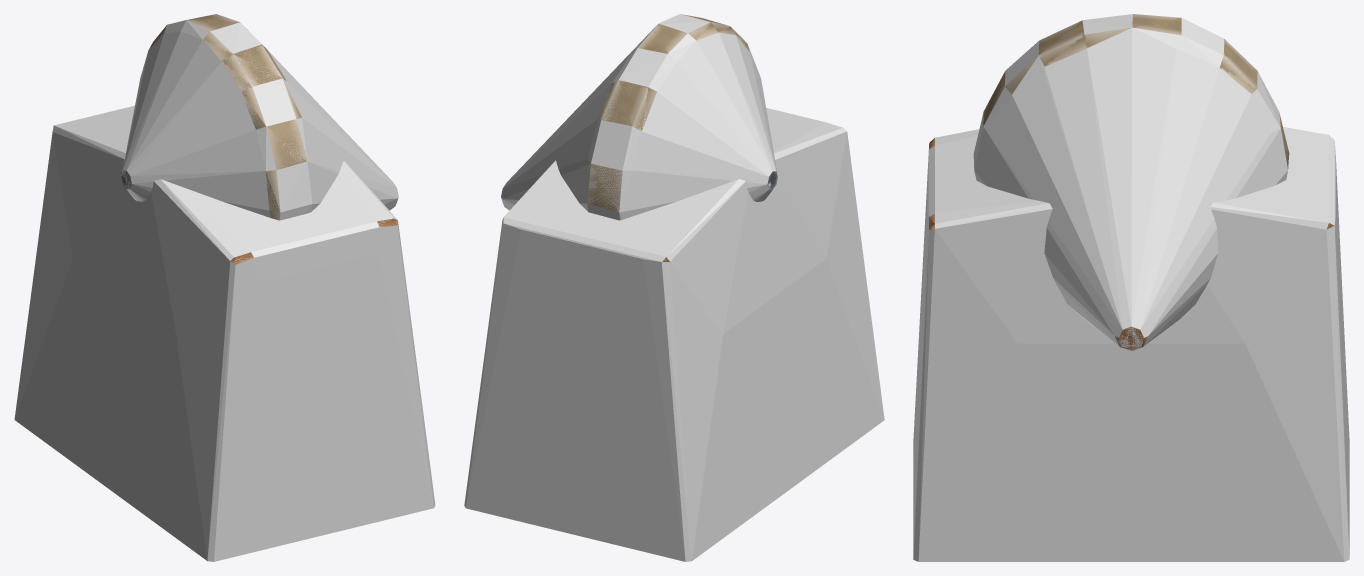
The model's file is grindstone.glb.
3 views of the same model, side by side, from view 1: azimuth 30°, elevation 25°; view 2: azimuth 150°, elevation 25°; view 3: azimuth 270°, elevation 25° (orthographic). The views are drawn at different scales.
Parts seen in each view (by area): view 1: COL_grindstone_static_00, COL_wheel_00, wheel; view 2: COL_grindstone_static_00, COL_wheel_00, wheel; view 3: COL_grindstone_static_00, COL_wheel_00, wheel.
Boxes of the visible parts, x1,y1,x2,y2 form: COL_grindstone_static_00: (14, 105, 435, 561); COL_wheel_00: (121, 20, 398, 220); wheel: (121, 14, 307, 220); COL_grindstone_static_00: (464, 107, 884, 561); COL_wheel_00: (501, 14, 777, 220); wheel: (587, 14, 777, 219); COL_grindstone_static_00: (913, 127, 1349, 561); COL_wheel_00: (973, 14, 1287, 351); wheel: (983, 14, 1289, 349).
Size of the model in its own units: 0.6881 by 1.02 by 0.8356.
Materials: 3 (3 with a texture image).
